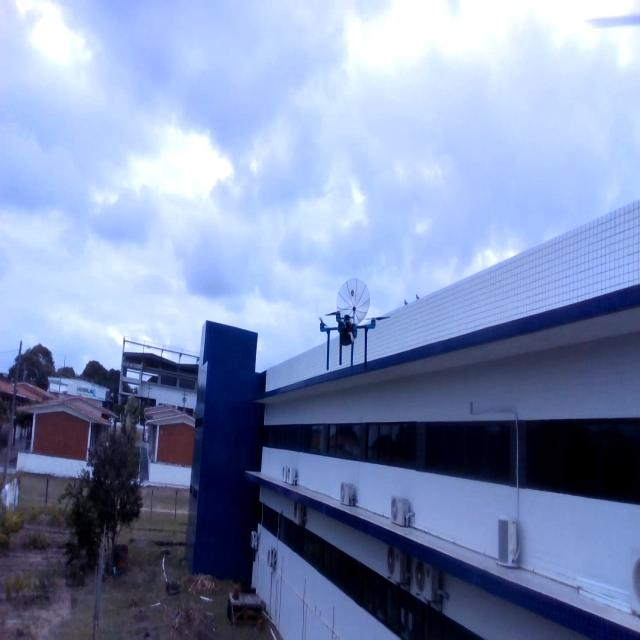-uav-: (306, 288, 395, 390)
